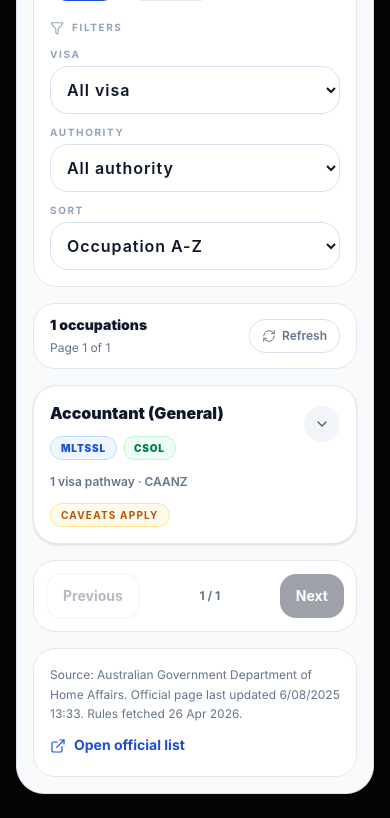
Scenario: OccupationsTool › renders official occupation results and expandable details
(page scrolled)
Step 1. Click the button that starts with "Accountant (General)" → (137, 413), box top-left (34, 386), bottom-right (356, 543)
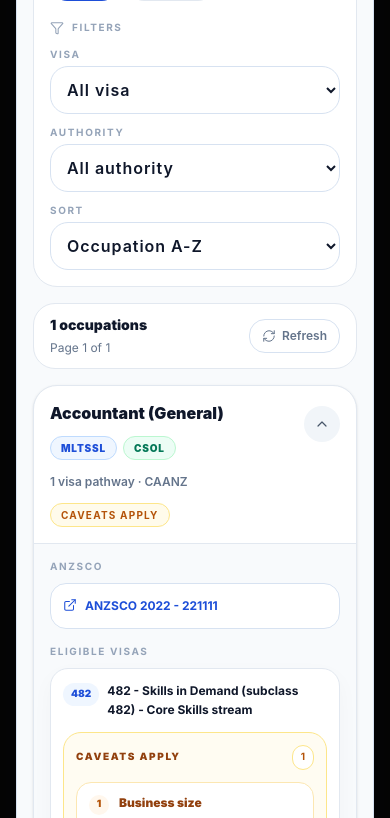
Result: the text "ANZSCO 2022 - 221111" is shown at top-left (85, 596), bottom-right (218, 616)
Result: the text "482 - Skills in Demand" is shown at top-left (107, 683), bottom-right (298, 717)
Result: the text "Business size" is shown at top-left (119, 795), bottom-right (202, 810)
